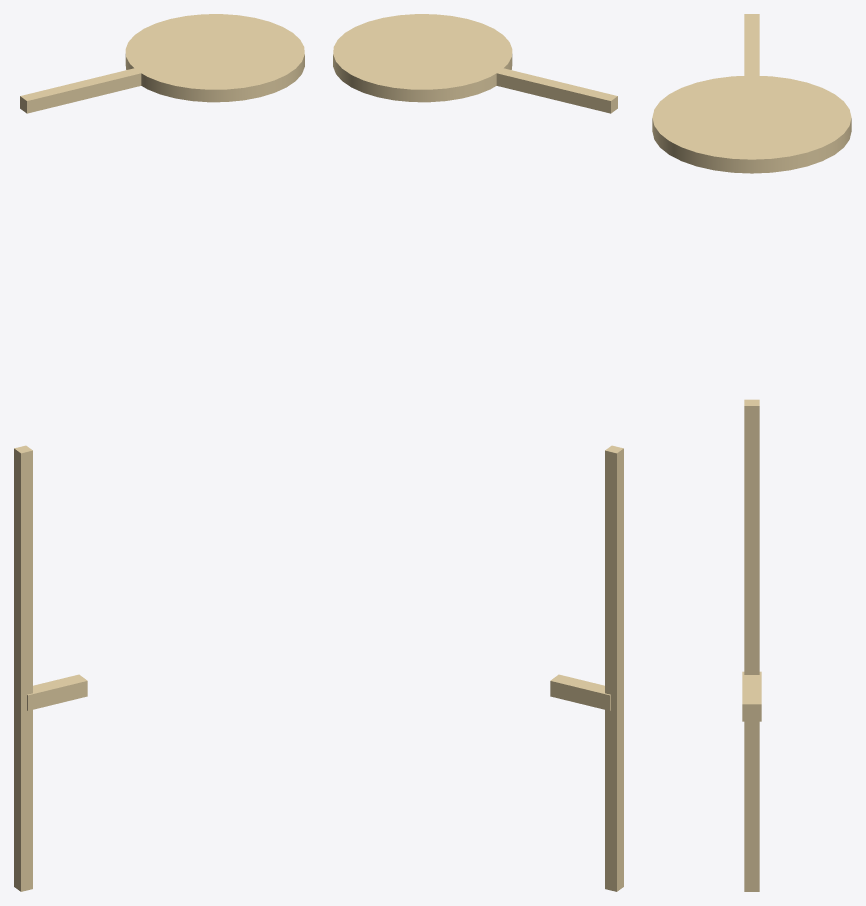
The model's file is SM_Shower_Fitting.fbx.
3 renders of one model, left to right at view 1: azimuth 30°, elevation 25°; view 2: azimuth 150°, elevation 25°; view 3: azimuth 270°, elevation 25°, orthographic. The views are drawn at different scales.
Parts seen in each view (by area): view 1: SM_Shower_Fitting; view 2: SM_Shower_Fitting; view 3: SM_Shower_Fitting.
Boxes of the visible parts, x1=… form: SM_Shower_Fitting: x1=14, y1=14, x2=304, y2=891; SM_Shower_Fitting: x1=333, y1=14, x2=623, y2=891; SM_Shower_Fitting: x1=652, y1=14, x2=851, y2=891.
Bounding box in the file's own units: 46 × 126 × 26.
